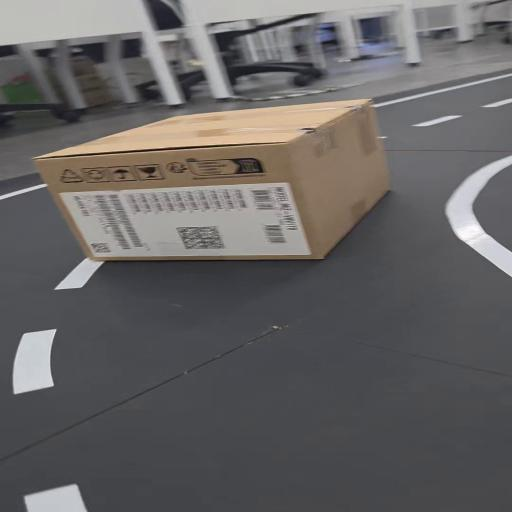Box: (38, 101, 392, 262)
